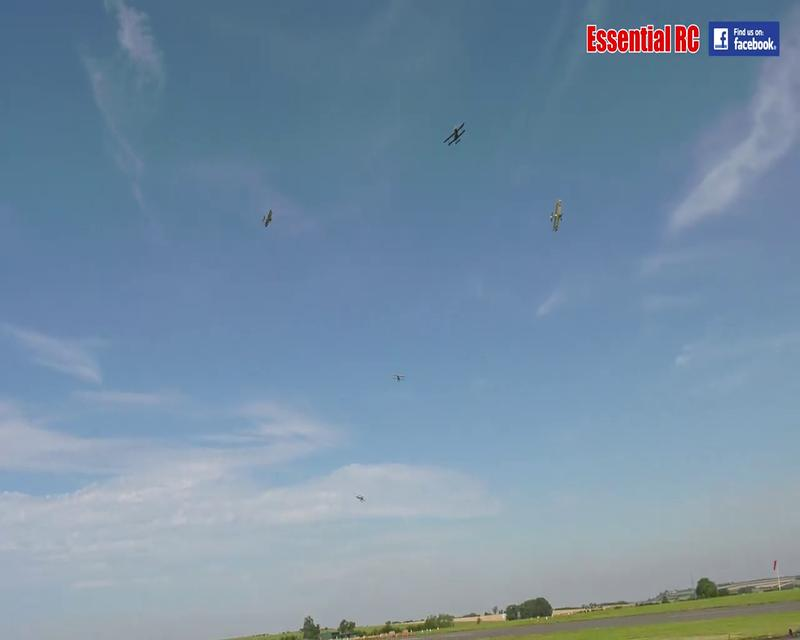UAV: (443, 122, 468, 147), (551, 200, 564, 232), (261, 207, 274, 228), (392, 372, 406, 384), (354, 494, 366, 504)
